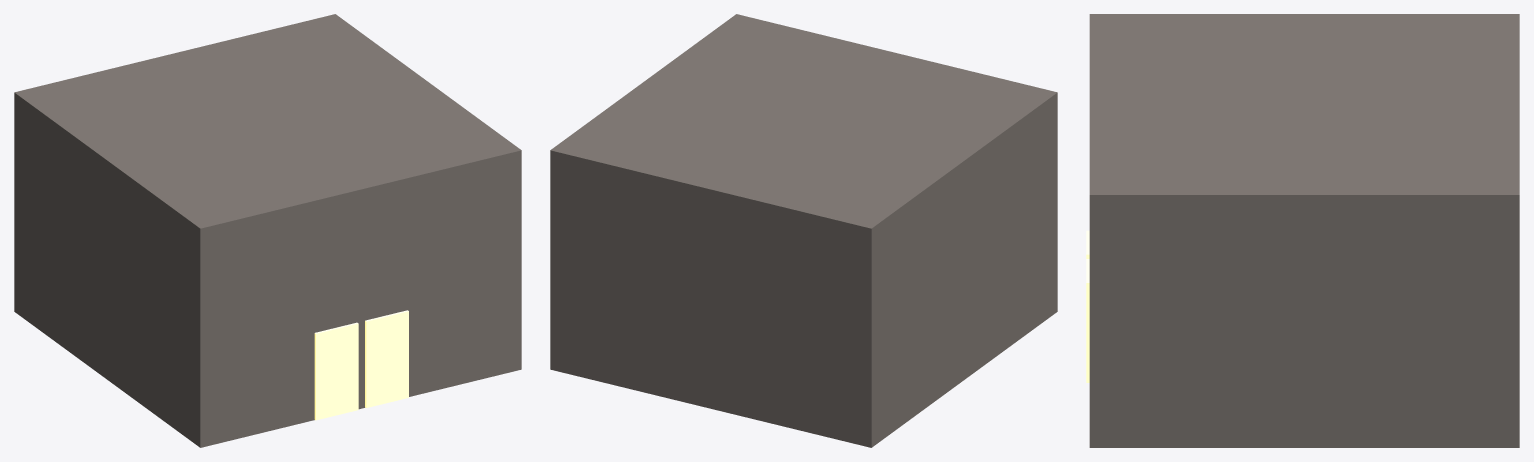
3 views of the same model, side by side, from view 1: azimuth 30°, elevation 25°; view 2: azimuth 150°, elevation 25°; view 3: azimuth 270°, elevation 25° (orthographic). The views are drawn at different scales.
Visible parts, largest first — view 1: Cube.028, Cube.001, Cube; view 2: Cube.028; view 3: Cube.028, Cube.
Boxes of the visible parts, <box> form: Cube.028: <box>14,14,521,447</box>; Cube.001: <box>314,322,358,420</box>; Cube: <box>365,310,408,407</box>; Cube.028: <box>550,14,1057,447</box>; Cube.028: <box>1089,14,1519,447</box>; Cube: <box>1086,259,1089,382</box>.
Size of the model in its own units: 12.41 by 8.1 by 12.56.
